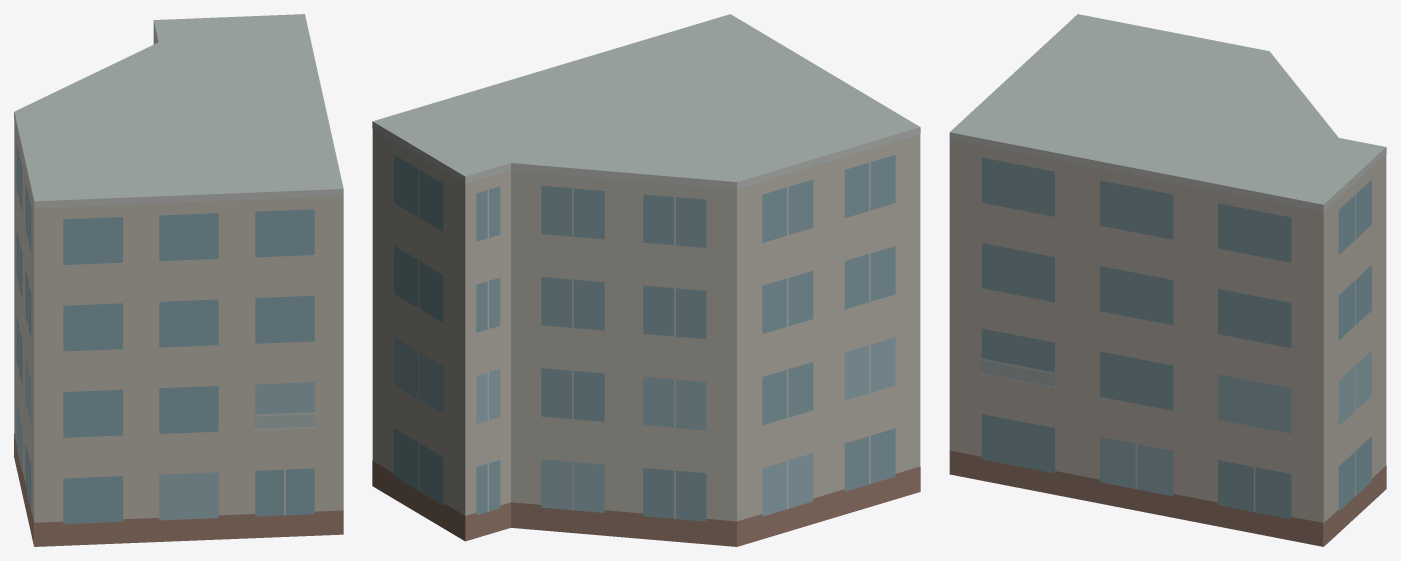
File: residential-226b4d77-edc5-4356-82b8-d5c076374408.glb
The picture shows the model from 3 angles, left to right: view 1: azimuth 30°, elevation 25°; view 2: azimuth 150°, elevation 25°; view 3: azimuth 270°, elevation 25°; orthographic projection. The views are drawn at different scales.
Visible parts, largest first — view 1: residential-226b4d77-edc5-4356-82b8-d5c076374408.tmp; view 2: residential-226b4d77-edc5-4356-82b8-d5c076374408.tmp; view 3: residential-226b4d77-edc5-4356-82b8-d5c076374408.tmp.
Boxes of the visible parts, bbox=[...] form: residential-226b4d77-edc5-4356-82b8-d5c076374408.tmp: bbox=[14, 14, 343, 546]; residential-226b4d77-edc5-4356-82b8-d5c076374408.tmp: bbox=[372, 14, 920, 546]; residential-226b4d77-edc5-4356-82b8-d5c076374408.tmp: bbox=[949, 14, 1386, 546].
Bounding box in the file's own units: 14.6 × 12.2 × 14.13.
